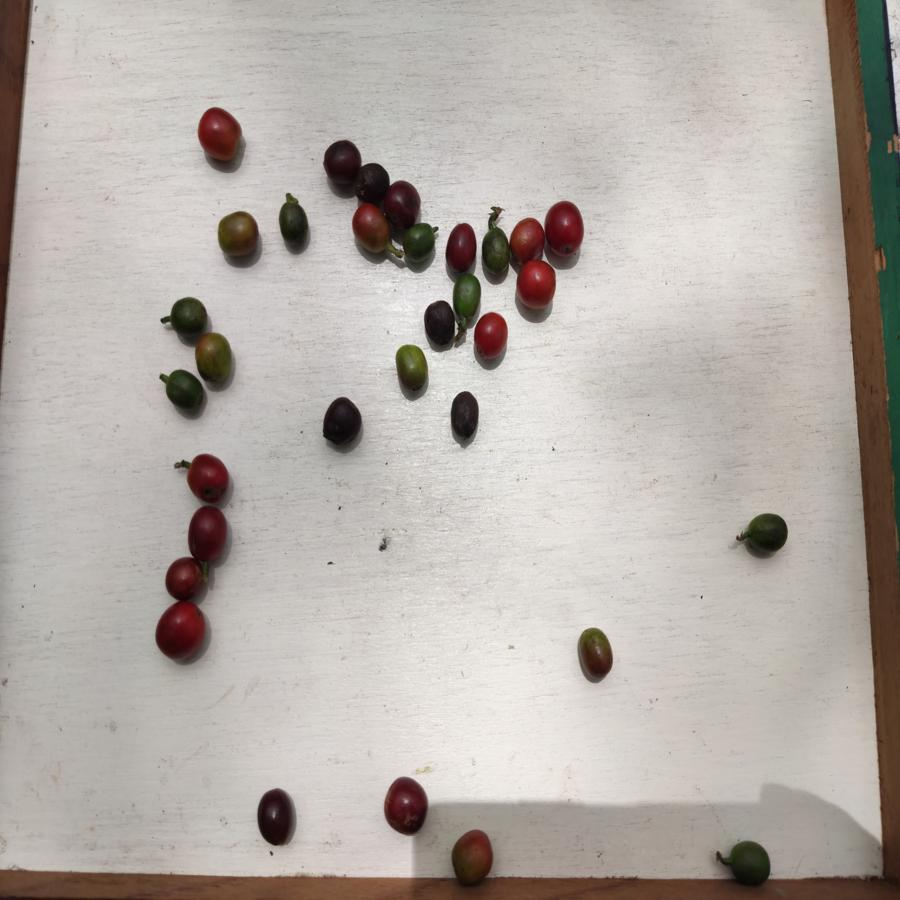Inmaduro: (725, 837, 772, 887), (744, 512, 789, 554), (169, 297, 208, 337), (277, 201, 310, 248), (165, 371, 204, 410), (451, 273, 482, 321), (481, 228, 510, 278), (402, 223, 436, 263)
Maduro: (155, 603, 209, 664), (195, 106, 244, 163), (543, 198, 586, 257), (183, 453, 230, 503), (515, 263, 558, 312), (473, 313, 510, 363), (353, 207, 388, 258), (509, 218, 544, 264)
Pinton: (450, 828, 493, 884), (394, 340, 431, 395), (217, 211, 258, 258), (195, 332, 233, 382), (578, 628, 613, 679)
Sobremaduro: (381, 773, 428, 835), (187, 505, 231, 563), (256, 788, 295, 850), (323, 397, 364, 445), (163, 558, 205, 601), (384, 181, 423, 224), (324, 139, 361, 183), (450, 388, 480, 438), (446, 224, 476, 272), (356, 162, 390, 202), (425, 300, 454, 346)
